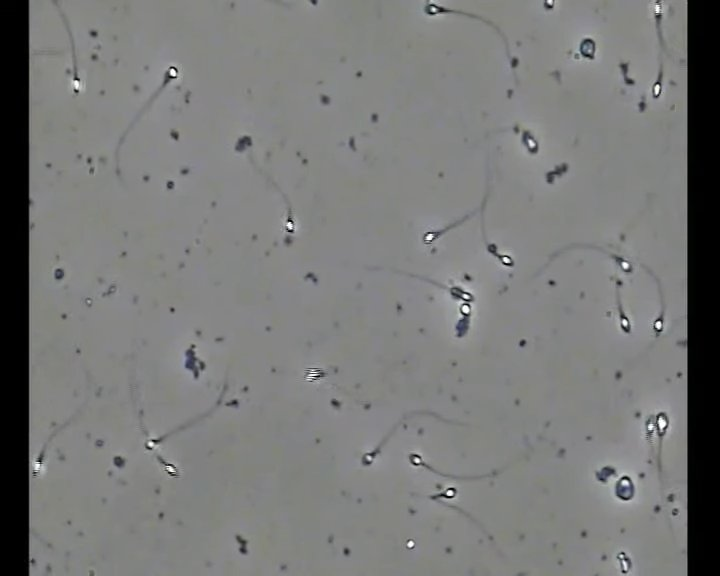spermhead: (648, 411, 670, 437), (616, 477, 634, 502), (521, 130, 538, 153), (579, 37, 596, 59), (595, 465, 615, 483), (297, 373, 320, 388), (320, 362, 341, 377), (617, 552, 631, 574), (455, 315, 469, 337), (615, 255, 632, 273), (424, 2, 446, 15), (619, 312, 631, 333), (651, 78, 663, 99), (422, 232, 438, 246), (362, 450, 376, 465), (449, 285, 464, 299), (167, 466, 177, 486), (409, 452, 423, 466), (166, 66, 180, 80), (284, 218, 296, 234), (72, 74, 82, 93), (654, 315, 664, 333), (461, 302, 472, 318), (655, 0, 666, 16), (31, 463, 42, 479), (444, 485, 456, 499), (499, 254, 513, 266), (146, 438, 160, 450), (461, 290, 474, 302), (487, 241, 497, 254), (85, 296, 94, 307), (407, 538, 415, 550), (510, 55, 518, 67), (544, 1, 554, 10), (616, 278, 624, 288)
